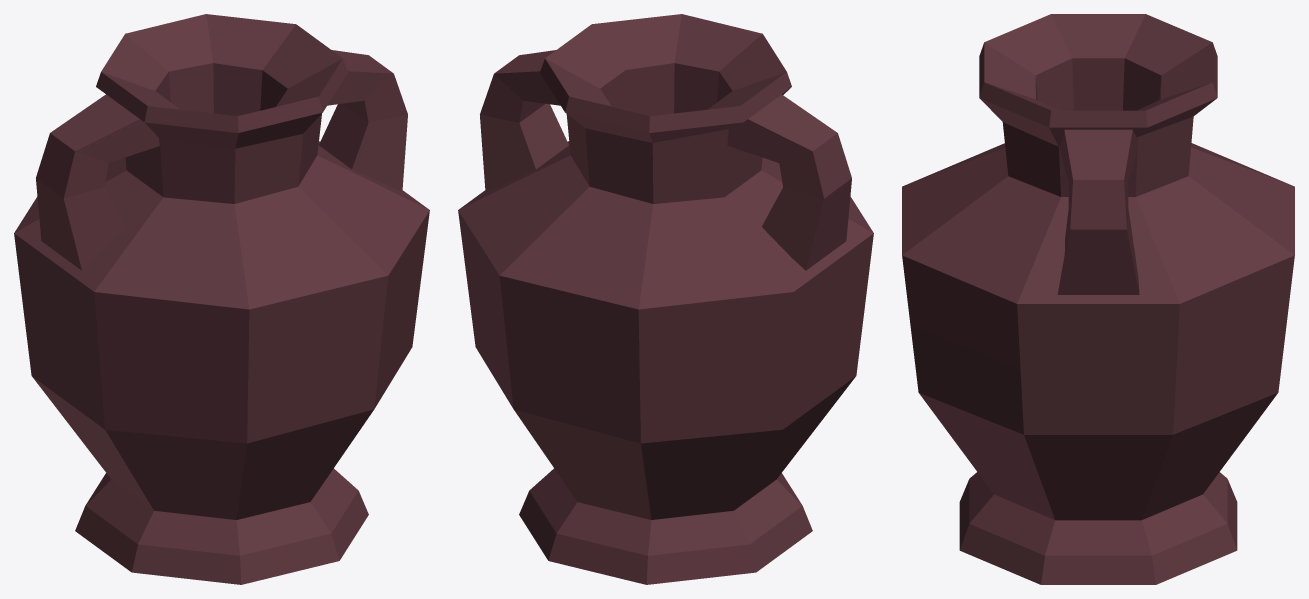
Rendered from SM_Vase_Stamnos_Empire.fbx.
3 views of the same model, side by side, from view 1: azimuth 30°, elevation 25°; view 2: azimuth 150°, elevation 25°; view 3: azimuth 270°, elevation 25° (orthographic).
Visible parts, largest first — view 1: SM_Vase_Stamnos_Empire; view 2: SM_Vase_Stamnos_Empire; view 3: SM_Vase_Stamnos_Empire.
Boxes of the visible parts, x1,y1,x2,y2 form: SM_Vase_Stamnos_Empire: (14, 14, 429, 584); SM_Vase_Stamnos_Empire: (458, 14, 873, 584); SM_Vase_Stamnos_Empire: (902, 14, 1294, 584).
Size of the model in its own units: 0.5086 by 0.646 by 0.4957.
